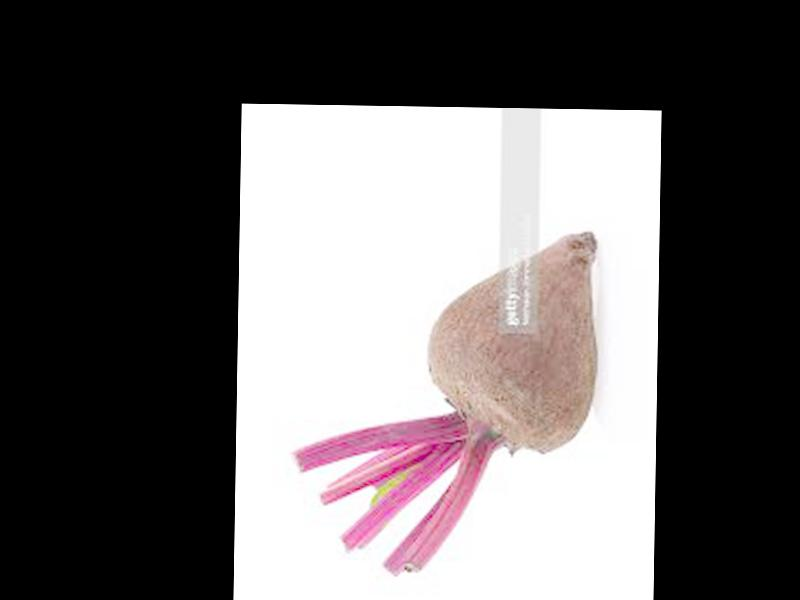Beet: (291, 226, 598, 579)
